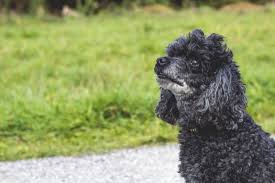Poodle: (139, 30, 275, 179)
